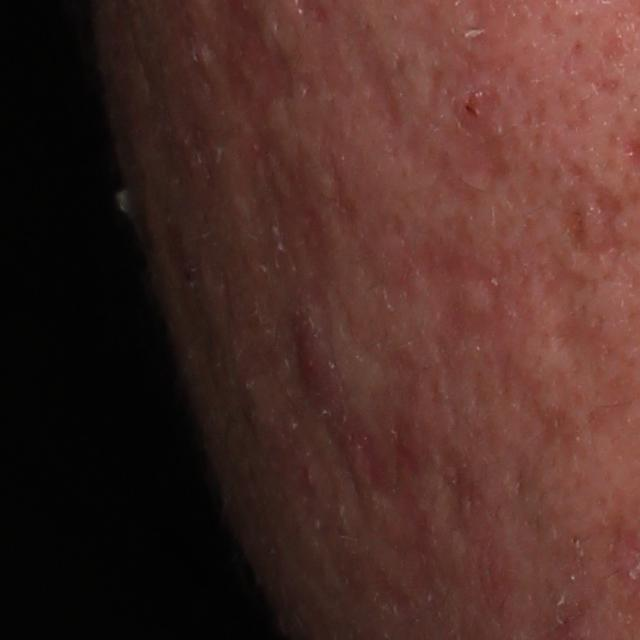atrophic_scar: (417, 253, 541, 423), (351, 24, 409, 134), (362, 421, 429, 515), (434, 448, 481, 540)
papule: (294, 328, 335, 387)
